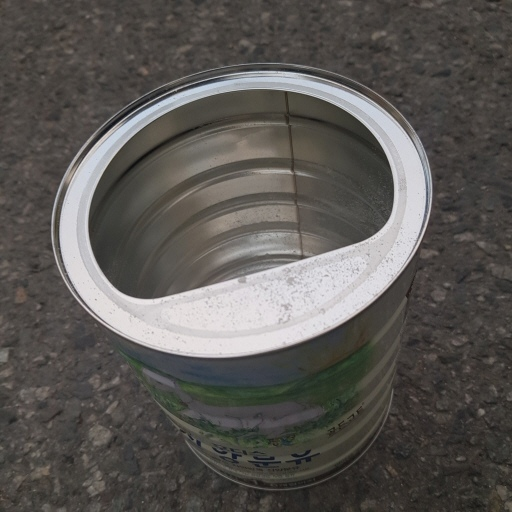Metal_1: (47, 60, 437, 486)
